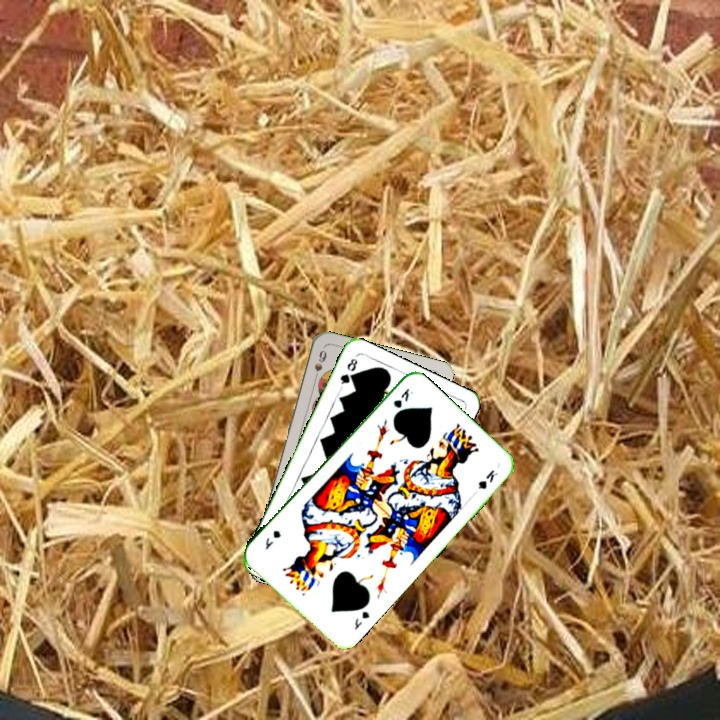G8: (336, 354, 360, 387)
GK: (389, 384, 416, 411), (350, 607, 372, 633)
S9: (309, 346, 329, 385)
